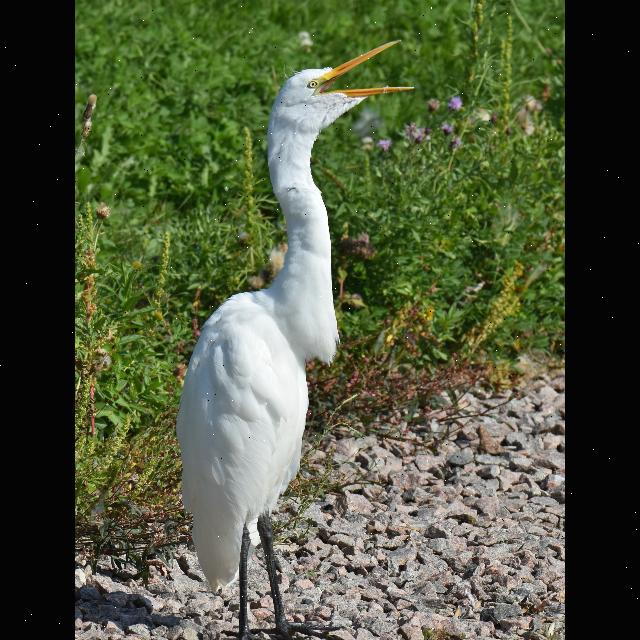egret: (171, 18, 433, 640)
